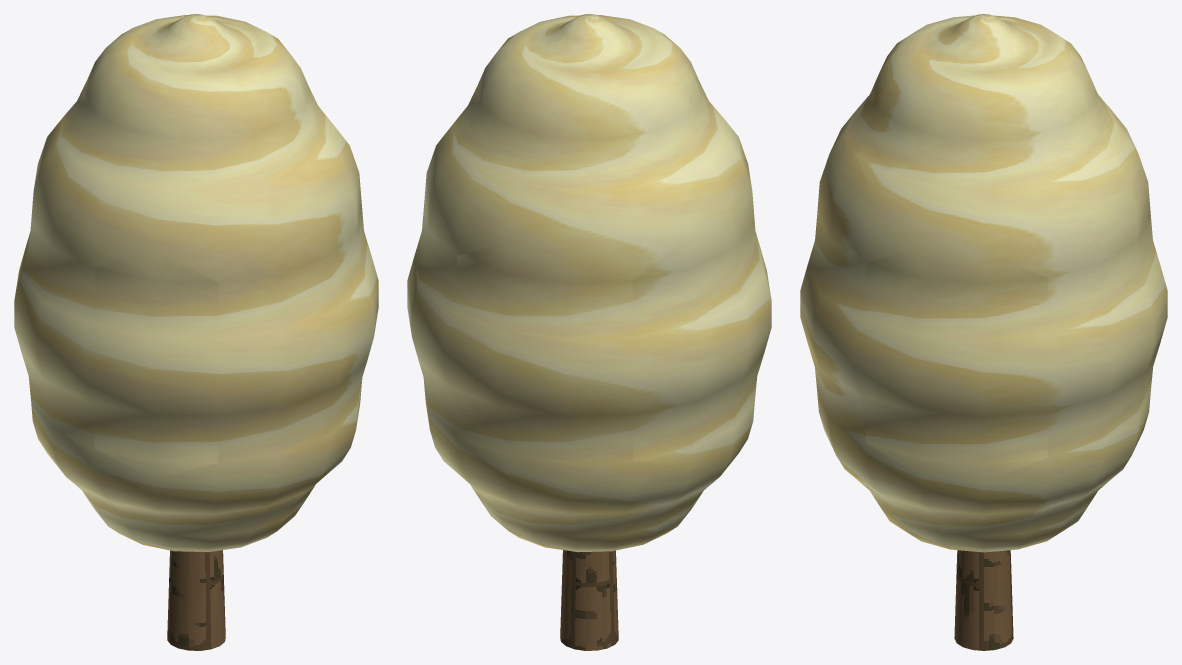
Rendered from tree2.obj.
The picture shows the model from 3 angles, left to right: view 1: azimuth 30°, elevation 25°; view 2: azimuth 150°, elevation 25°; view 3: azimuth 270°, elevation 25°; orthographic projection.
Parts seen in each view (by area): view 1: Leaves, Trunk; view 2: Leaves, Trunk; view 3: Leaves, Trunk.
Boxes of the visible parts, bbox=[...] form: Leaves: bbox=[14, 14, 378, 552]; Trunk: bbox=[167, 550, 225, 650]; Leaves: bbox=[407, 14, 771, 552]; Trunk: bbox=[560, 550, 618, 650]; Leaves: bbox=[800, 14, 1167, 552]; Trunk: bbox=[954, 550, 1013, 650].
Bounding box in the file's own units: 4.97 × 9.29 × 4.97.
Materials: 2 (2 with a texture image).
